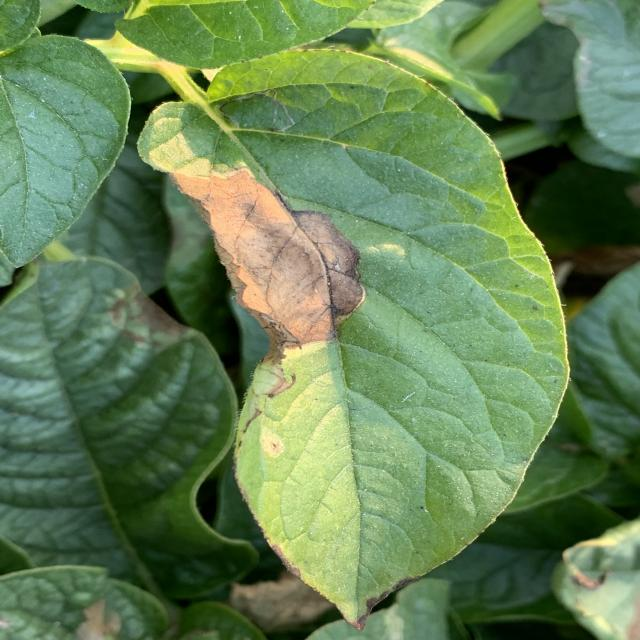lateblight: (148, 134, 365, 370)
